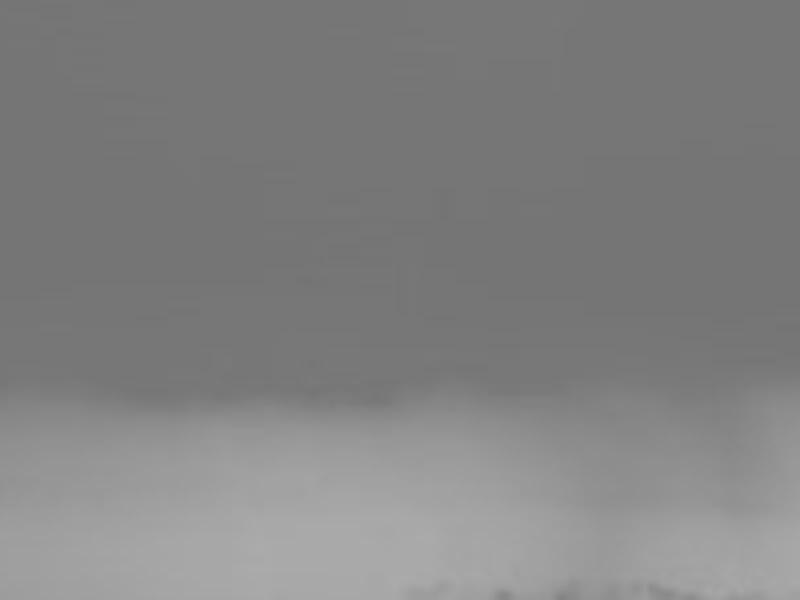defect: (550, 583, 584, 600), (590, 580, 615, 600), (648, 583, 677, 600), (402, 581, 427, 600), (430, 575, 453, 592), (490, 586, 514, 600), (626, 579, 645, 593)
